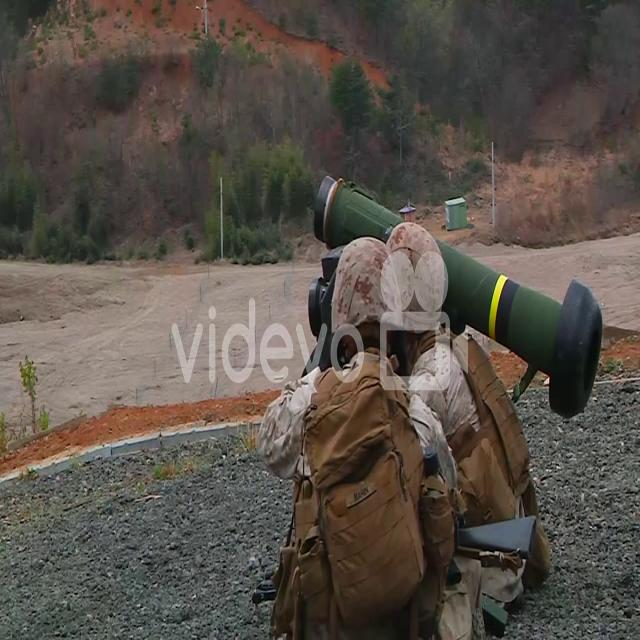bazooka: (310, 172, 608, 423)
